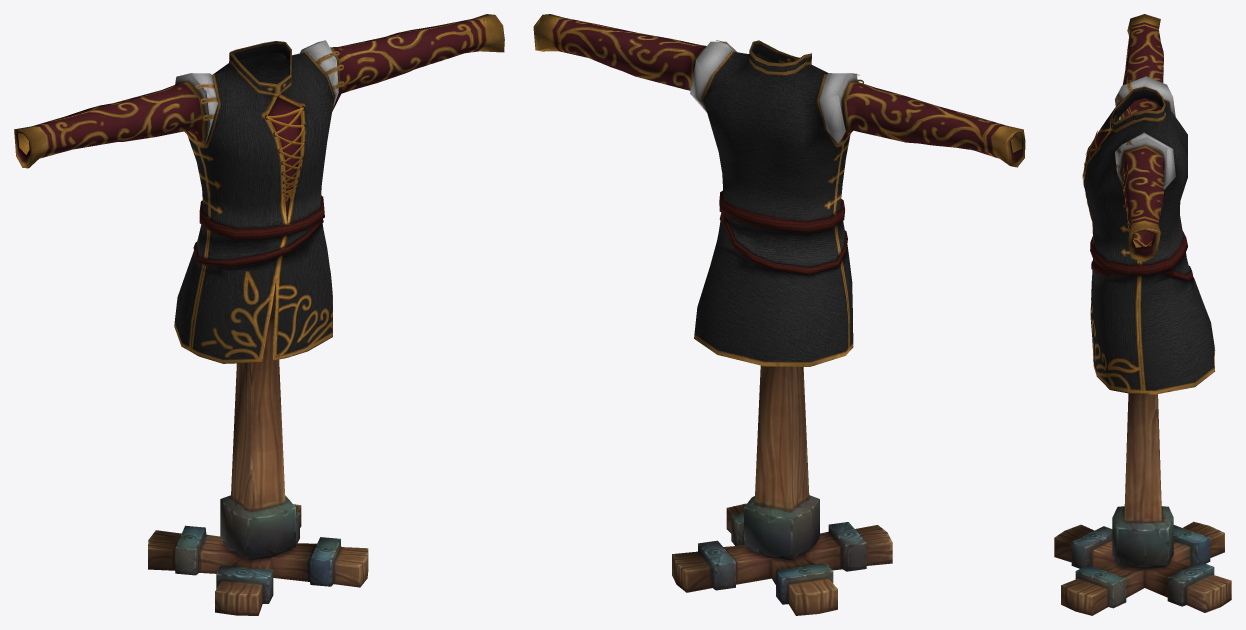
Rendered from CoinCMale.glb.
The picture shows the model from 3 angles, left to right: view 1: azimuth 30°, elevation 25°; view 2: azimuth 150°, elevation 25°; view 3: azimuth 270°, elevation 25°; orthographic projection. The views are drawn at different scales.
Parts seen in each view (by area): view 1: M_uBody_BaseMesh; view 2: M_uBody_BaseMesh; view 3: M_uBody_BaseMesh.
Part boxes in pixels (x1,y1,x2,y2): M_uBody_BaseMesh: [14, 14, 504, 615]; M_uBody_BaseMesh: [533, 14, 1025, 615]; M_uBody_BaseMesh: [1054, 14, 1231, 615].
Size of what is drawn, in the model's own units: 2.21 by 2.31 by 0.7707.
Materials: 3 (3 with a texture image).
